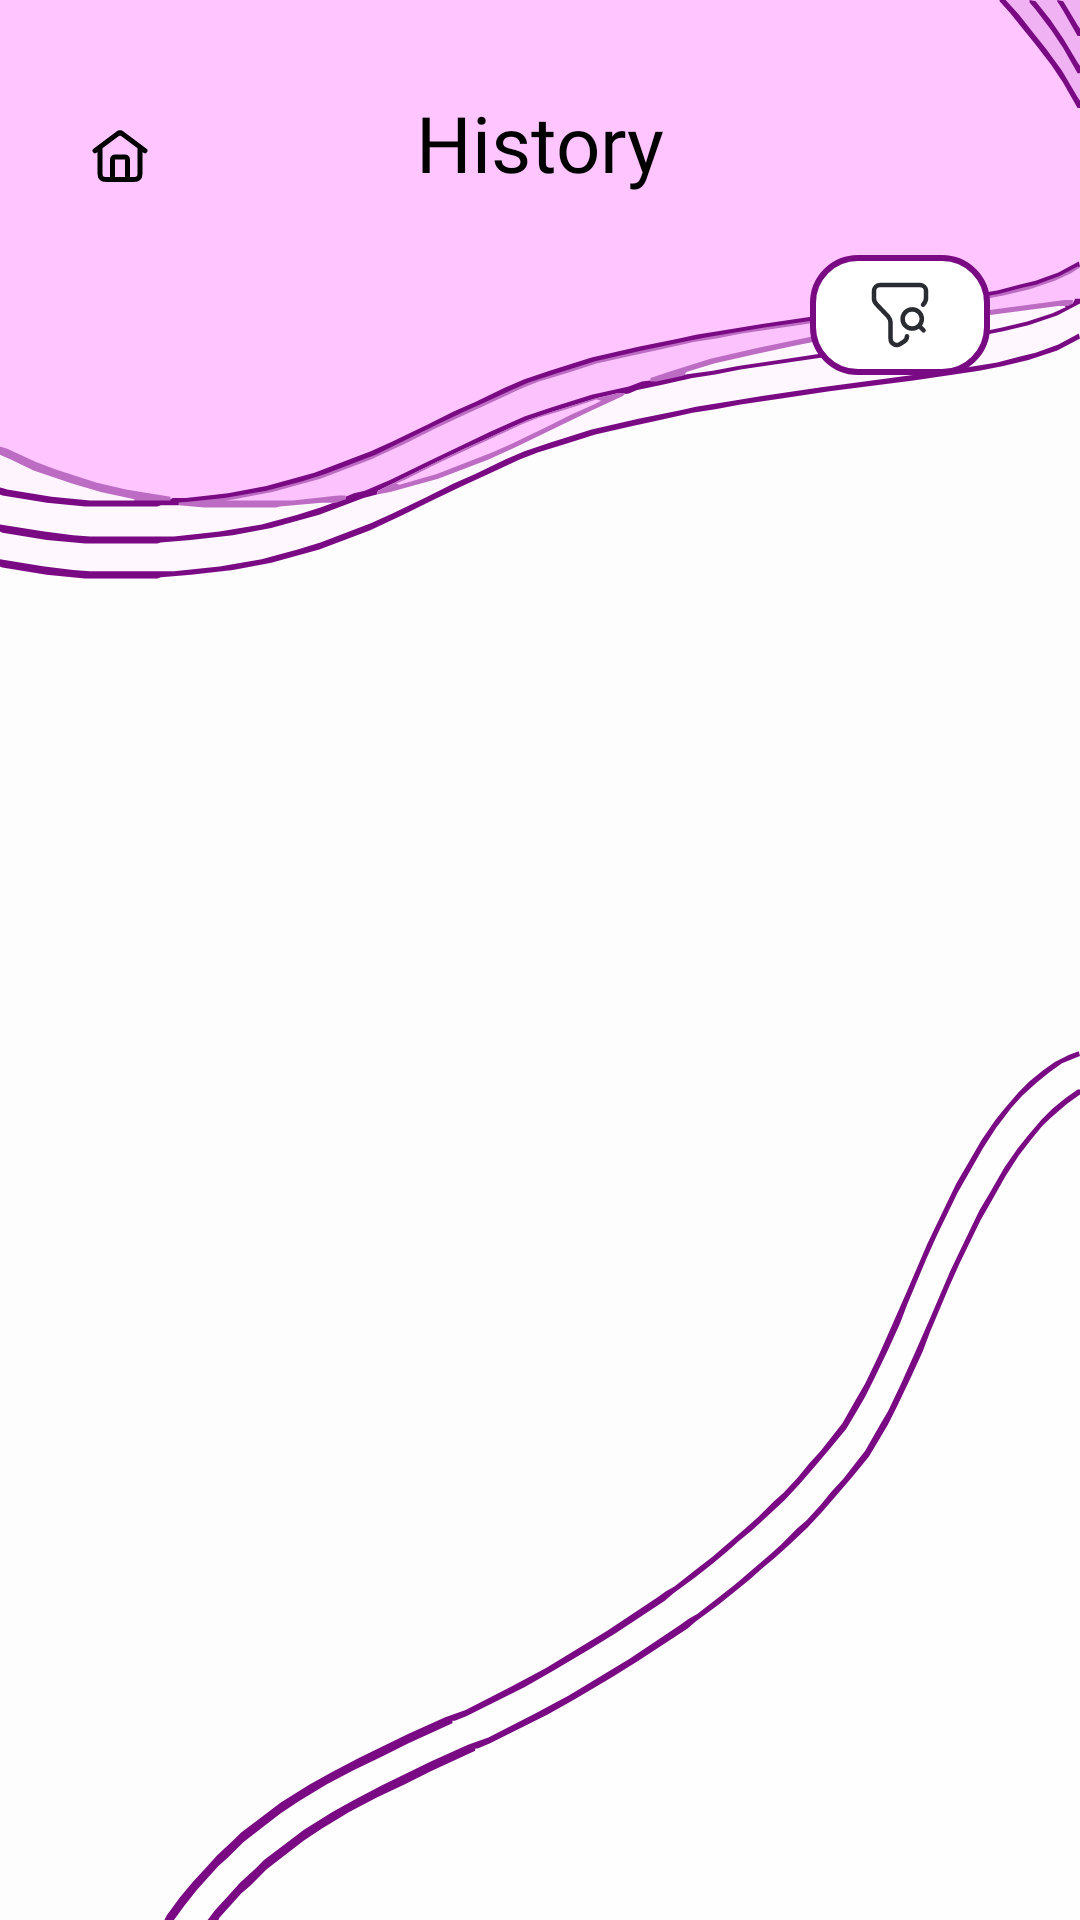

Icon bounding boxes for this 1080x1920 phone screenshot, format (x1, y1, x2, y2):
filter: (871, 282, 929, 348)
home: (92, 130, 148, 182)
